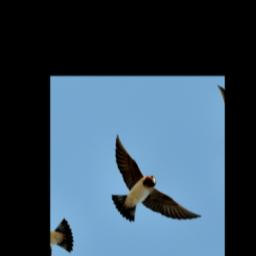Swallow: (88, 115, 203, 250)
